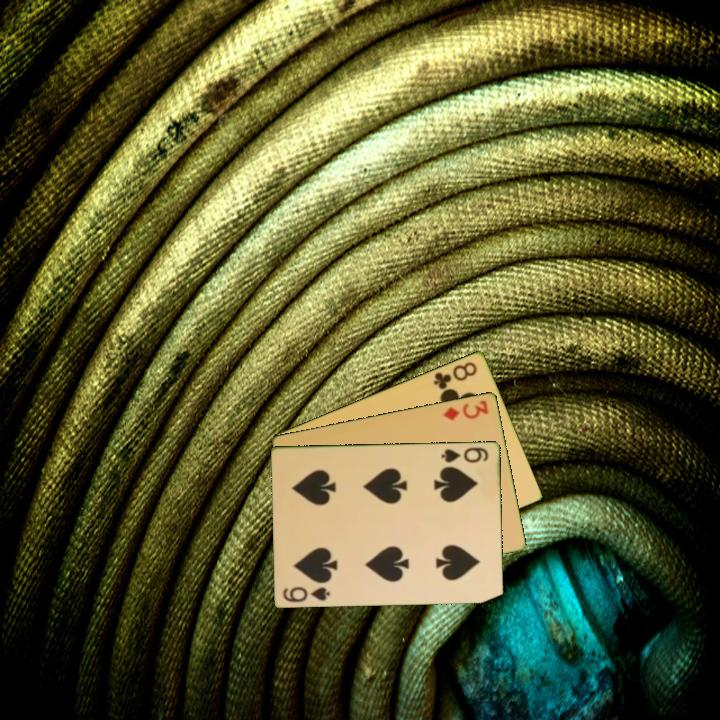3d: (440, 396, 491, 423)
6s: (438, 443, 491, 465), (280, 583, 333, 604)
8c: (430, 358, 480, 392)
